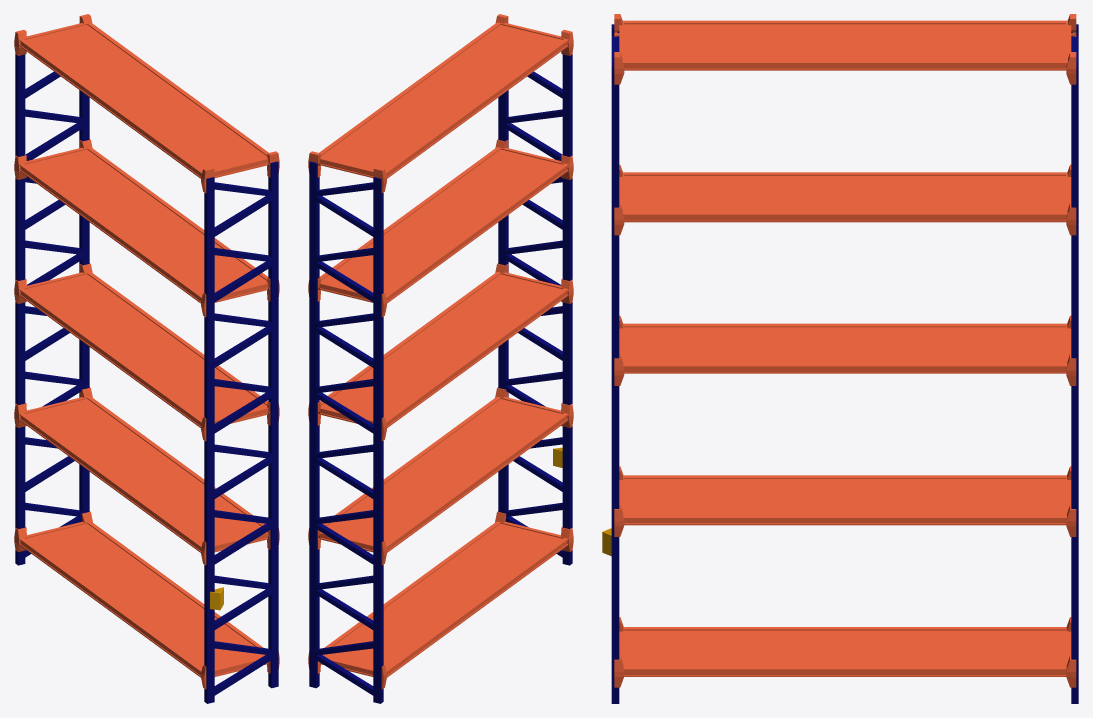
File: WareHouse-Rack-1.glb
3 renders of one model, left to right at view 1: azimuth 30°, elevation 25°; view 2: azimuth 150°, elevation 25°; view 3: azimuth 270°, elevation 25°, orthographic. The views are drawn at different scales.
Visible parts, largest first — view 1: Plane.838, RackSide, ShelfHolder.001; view 2: Plane.838, RackSide, ShelfHolder.001; view 3: Plane.838, RackSide, ShelfHolder.001.
Boxes of the visible parts, left/top/right/bottom form: Plane.838: left=19, top=22, right=268, bottom=677; RackSide: left=15, top=54, right=278, bottom=703; ShelfHolder.001: left=14, top=14, right=279, bottom=689; Plane.838: left=319, top=22, right=568, bottom=677; RackSide: left=309, top=54, right=572, bottom=703; ShelfHolder.001: left=308, top=14, right=573, bottom=689; Plane.838: left=619, top=20, right=1071, bottom=676; RackSide: left=611, top=24, right=1078, bottom=703; ShelfHolder.001: left=614, top=14, right=1076, bottom=687.
Bounding box in the file's own units: 2.11 × 14.22 × 9.49.
